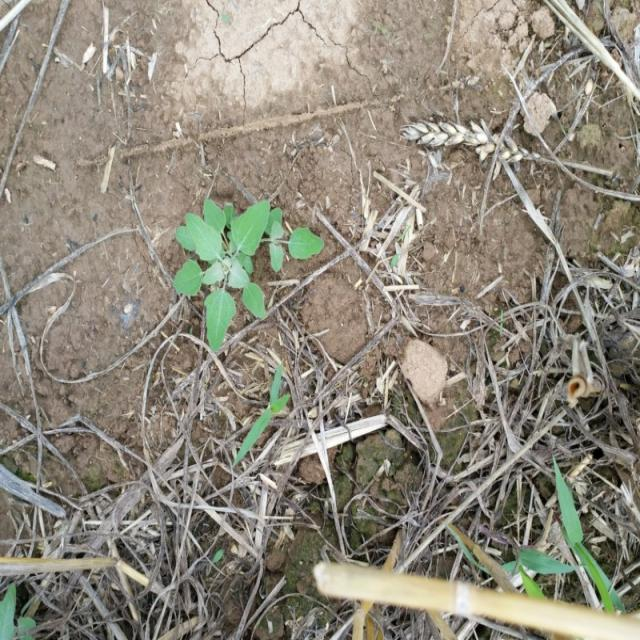goosefoots: (164, 152, 340, 346)
